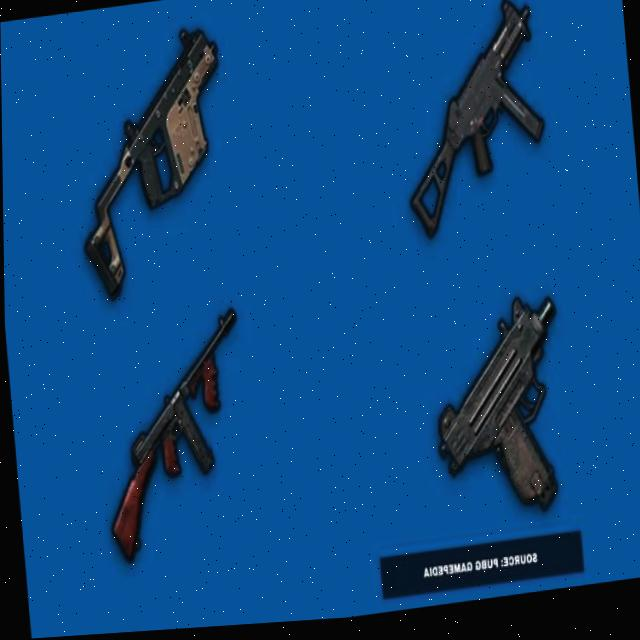firearm: (65, 24, 237, 304), (94, 308, 254, 565), (395, 2, 551, 243), (425, 296, 570, 532)
